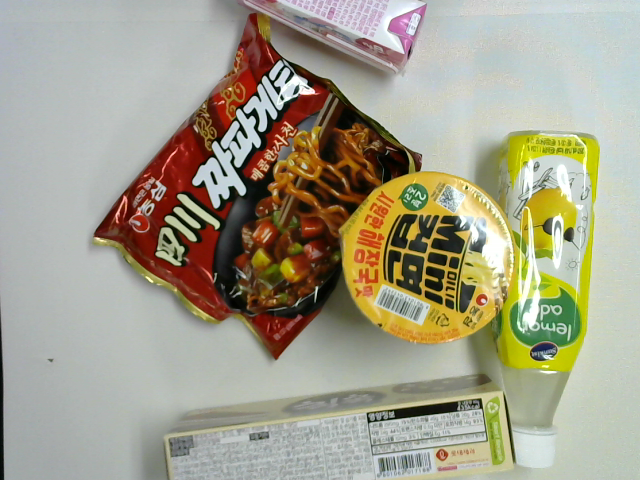Chicchok_Tiramisu: (156, 369, 517, 480)
Hejangmini: (339, 171, 517, 350)
Sichuan_Chapaghetti: (92, 10, 426, 365)
Strawberry_E_Mong: (232, 1, 430, 80)
Sunkist_Lemonaid_Pet: (473, 125, 608, 470)
